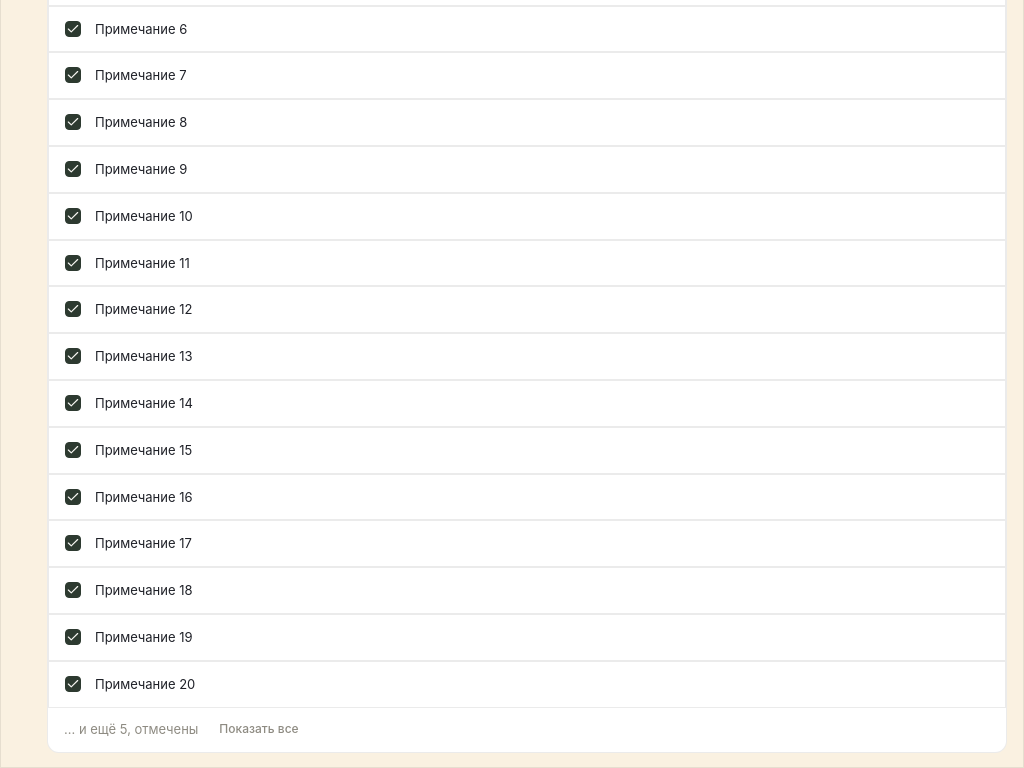
NotWorkGroup › первые 20 видны, остальные под «Показать все»; граница 20 — без кнопки
(page scrolled)
Check: the text "… и ещё 5, отмечены" is shown, box [64,719,198,740]
Check: the text "Примечание 21" is not shown
Click the button "Показать все" at (259, 730), box [210,718,308,742]
(page scrolled)
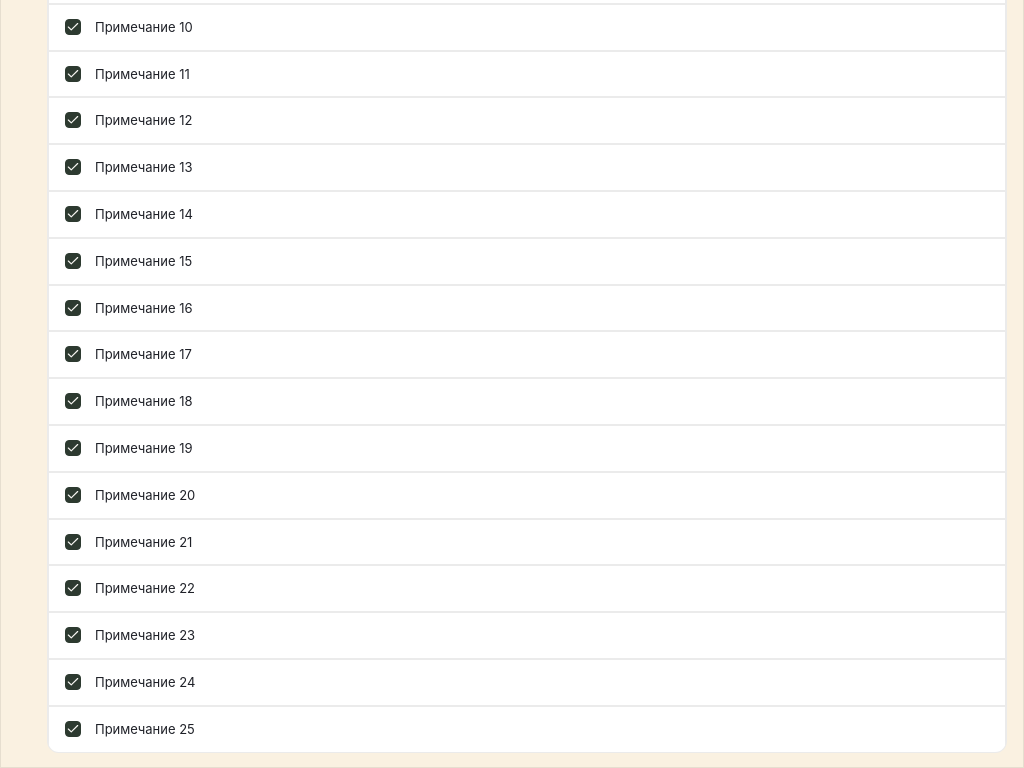
Check: the text "Примечание 25" is shown, box [95,721,195,737]
Check: the button "Показать все" is gone
